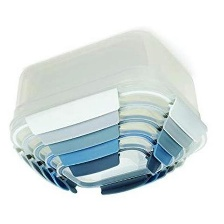plastic_box: (2, 23, 212, 203)
